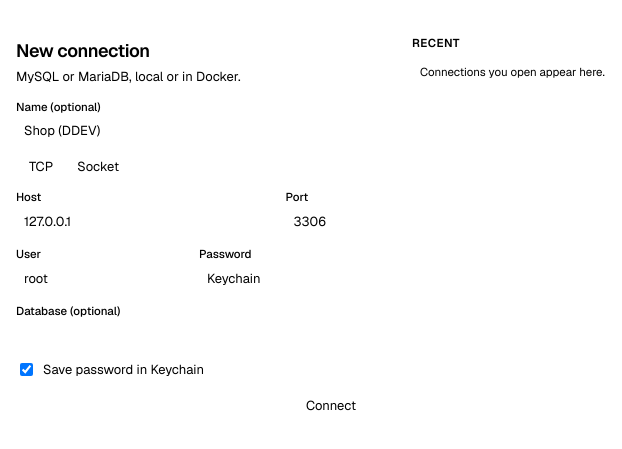
Test: ConnectScreen › rejects an invalid port without connecting
This screenshot has width=622, height=449.
Replace the text in the field labelled "Port" with "99999" at [329, 222], box [286,208,372,234]
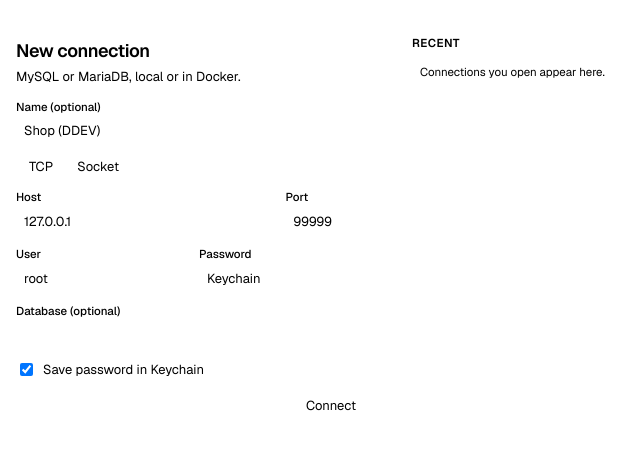
Click the button "Connect" at [331, 405], box [290,391,372,419]
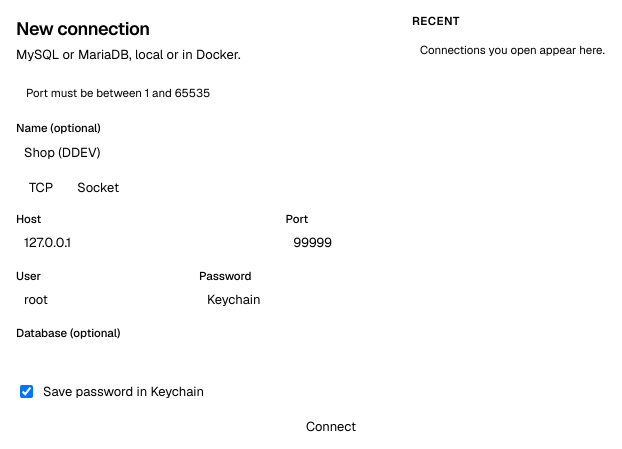
Now the message reads "Port must be between 1 and 65535", box [26,85,210,100]
